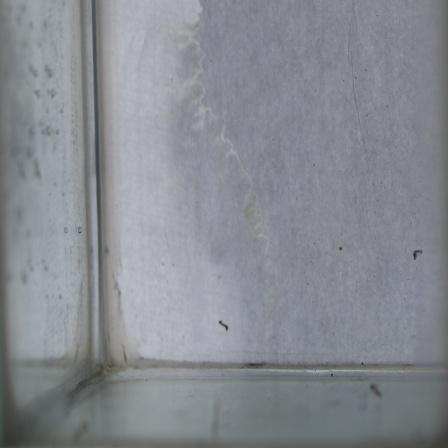Jentik-Nyamuk: (403, 243, 425, 266), (215, 317, 234, 337)
